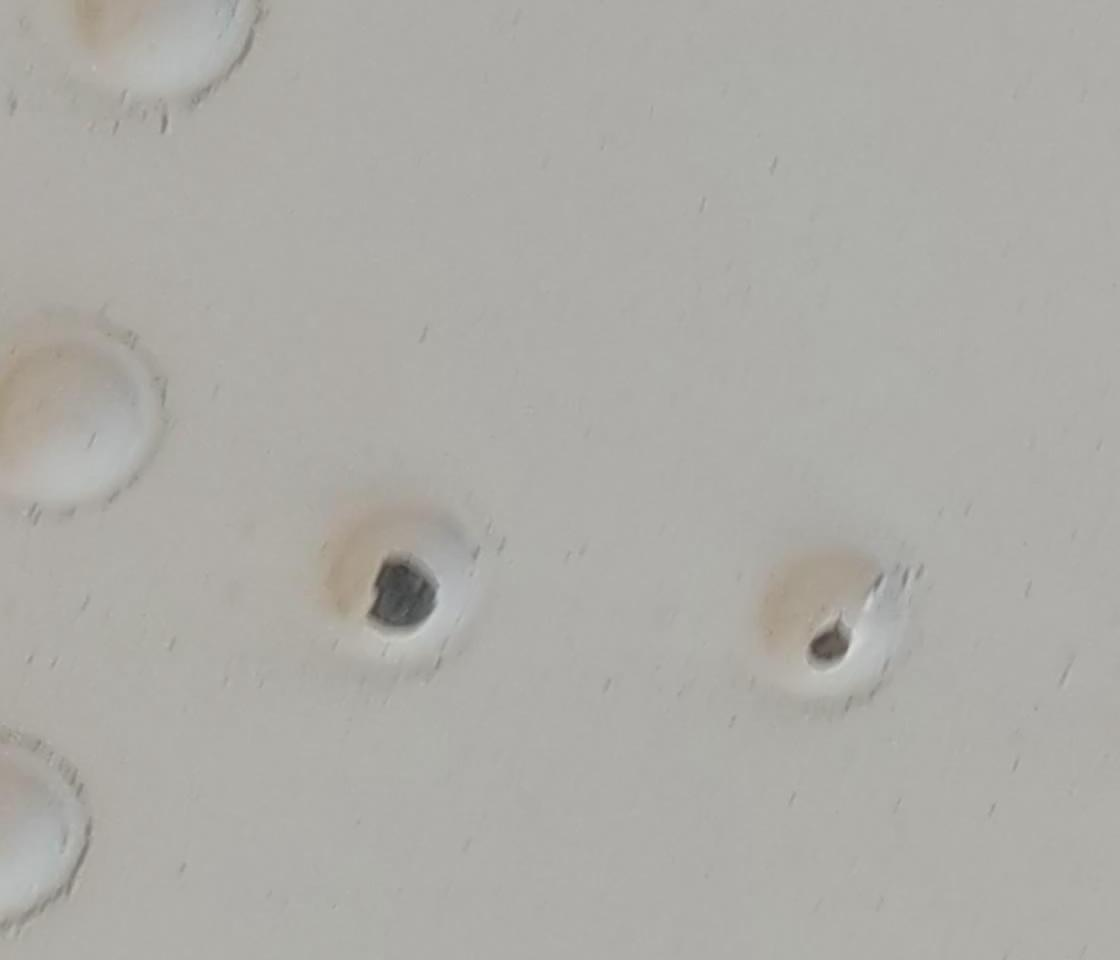paint_peel: (365, 555, 446, 634), (799, 614, 860, 675)
